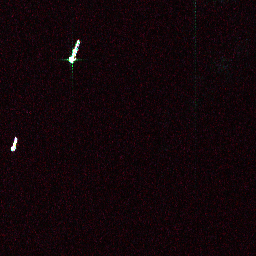ship: (66, 38, 83, 65), (8, 135, 20, 154)
